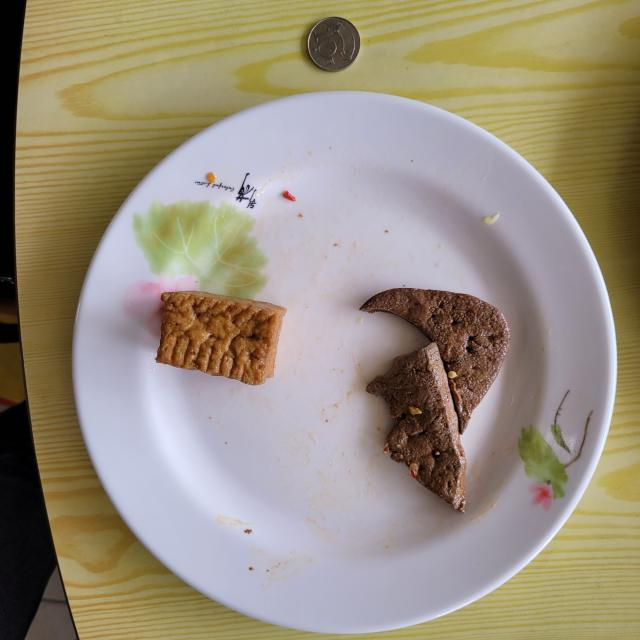coin: (308, 18, 360, 71)
egg tofu: (156, 291, 286, 385)
pig liver: (360, 289, 510, 512)
